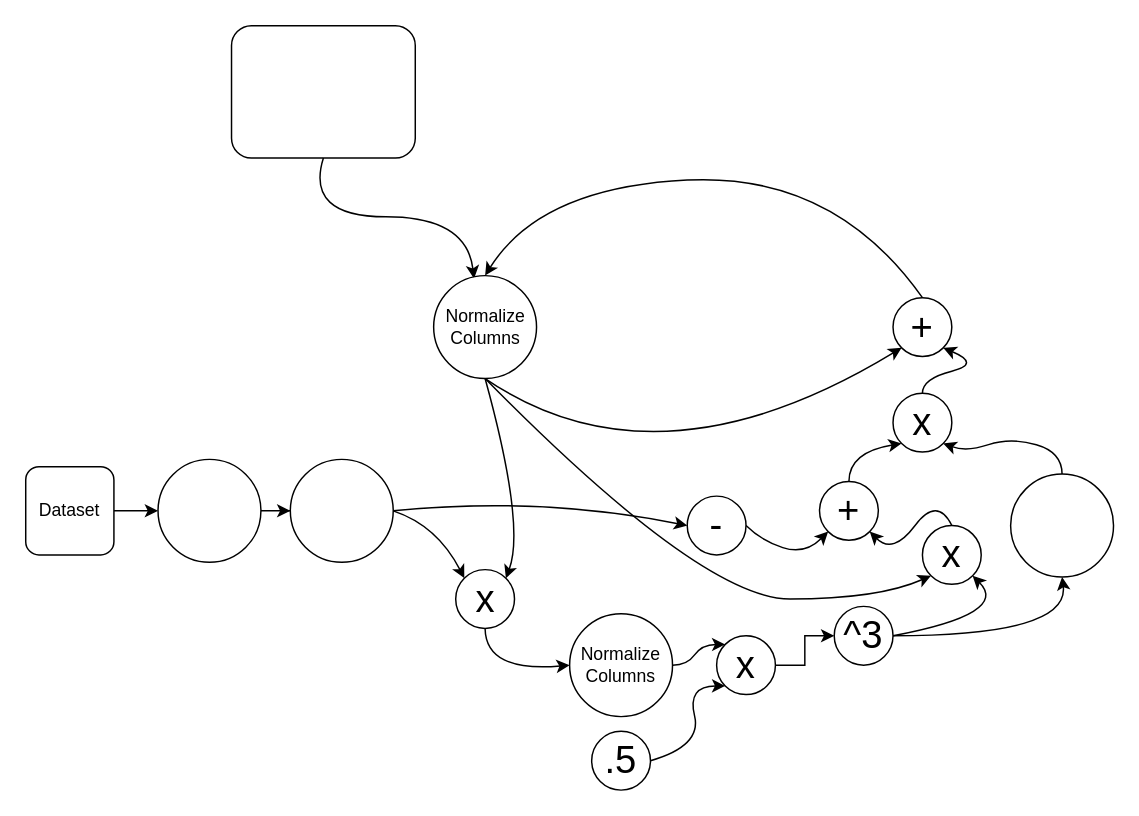
Some shapes in this 1139 by 816 pixel diagram are drawn without their labels. Each missing label, with the box of its shape:
Get Patches: (157, 458, 261, 562)
Random Initialize Dictionary: (230, 24, 415, 158)
Transpose: (1009, 473, 1114, 577)
ZCA Whiten: (289, 458, 393, 562)
